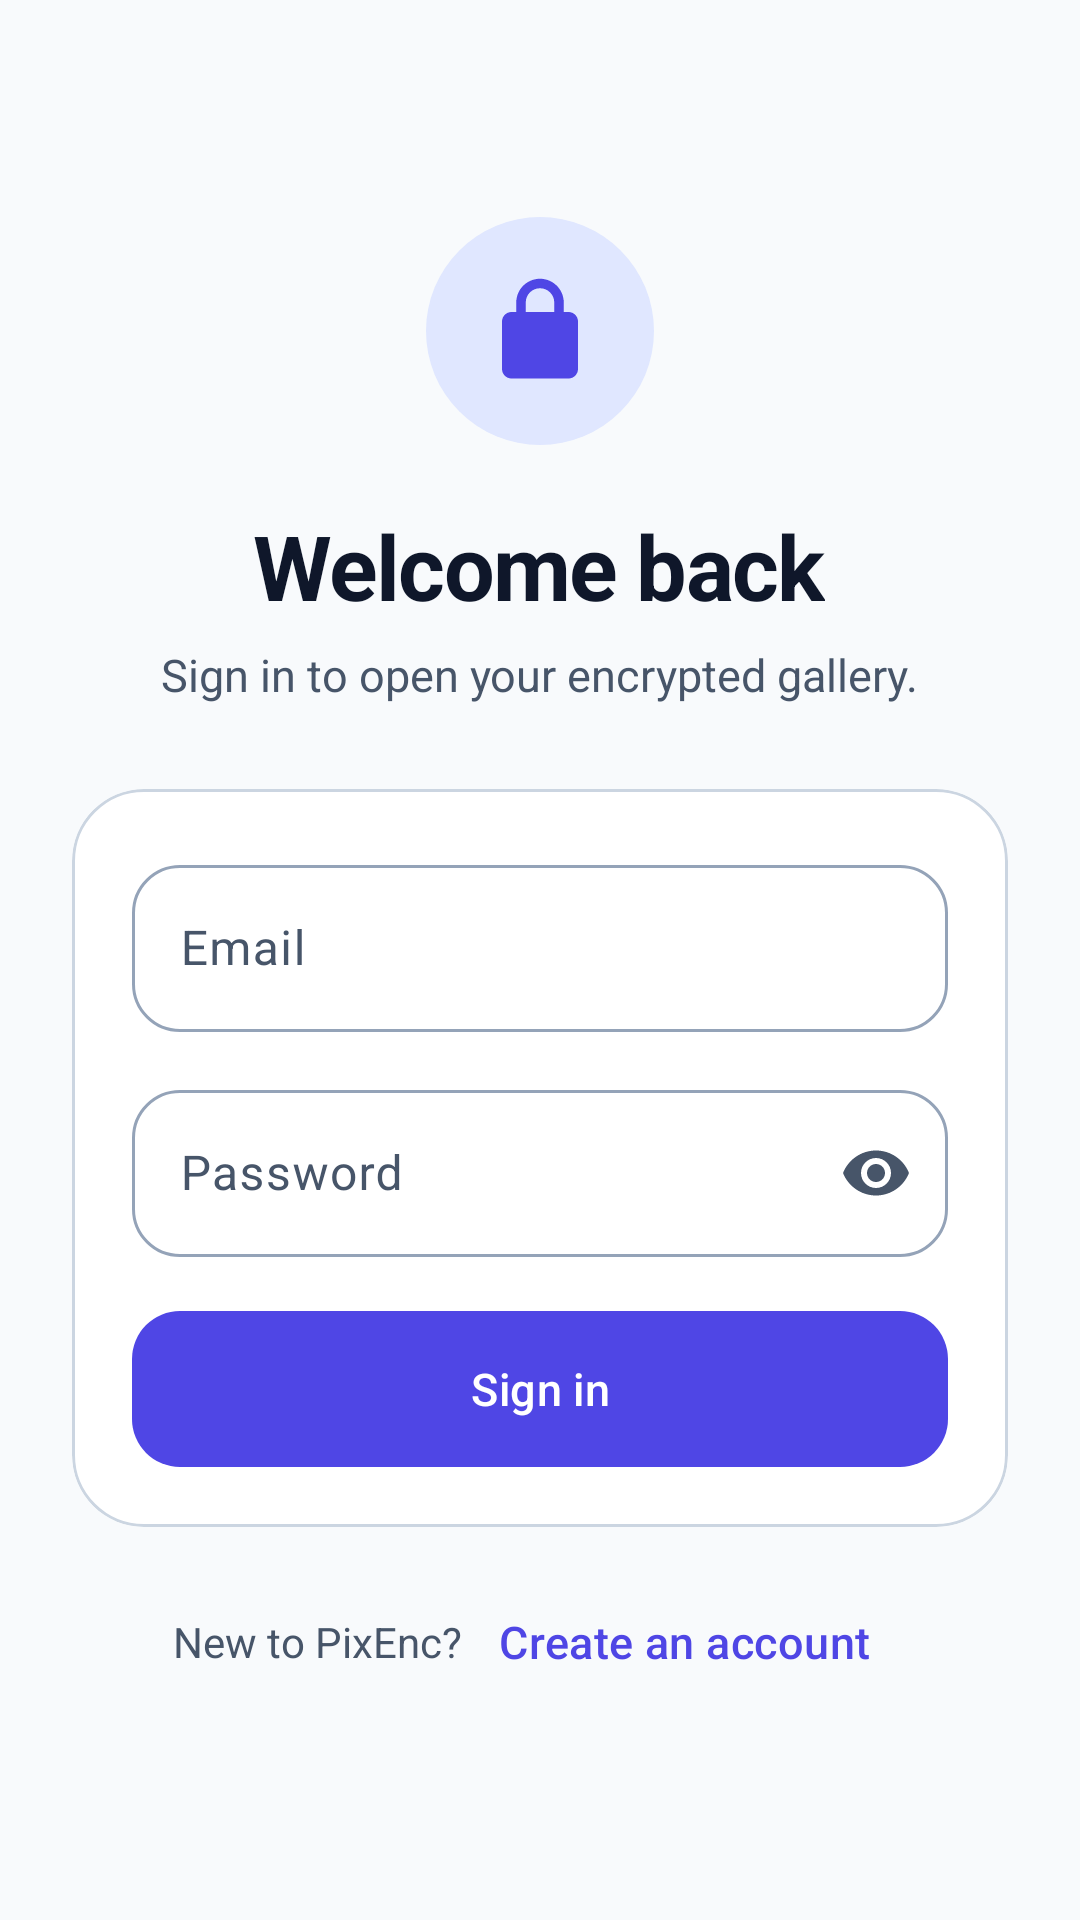

Locate icon controls on the screen. Image size 1080 × 1920, boxes as (x1, y1, x2, y2).
lock: (502, 278, 578, 379)
